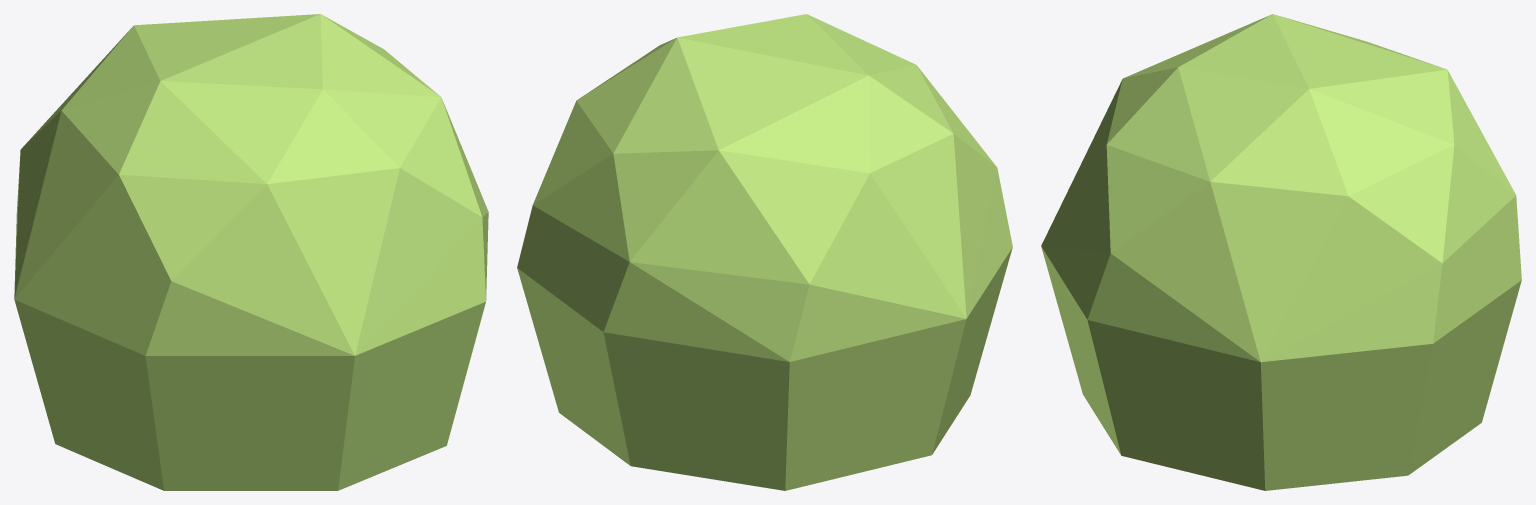
The model's file is Bush_h_m_07.fbx.
3 views of the same model, side by side, from view 1: azimuth 30°, elevation 25°; view 2: azimuth 150°, elevation 25°; view 3: azimuth 270°, elevation 25° (orthographic). The views are drawn at different scales.
Visible parts, largest first — view 1: Bush_h_m_07; view 2: Bush_h_m_07; view 3: Bush_h_m_07.
Part boxes in pixels (x1,y1,x2,y2): Bush_h_m_07: (14, 14, 488, 490); Bush_h_m_07: (517, 14, 1012, 490); Bush_h_m_07: (1041, 14, 1521, 490).
Bounding box in the file's own units: 1.29 × 1.02 × 1.25.
